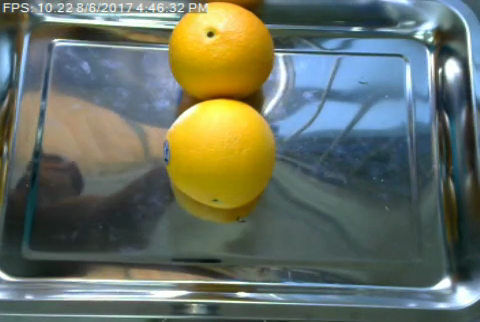Orange: (163, 99, 277, 207), (166, 2, 274, 100)
